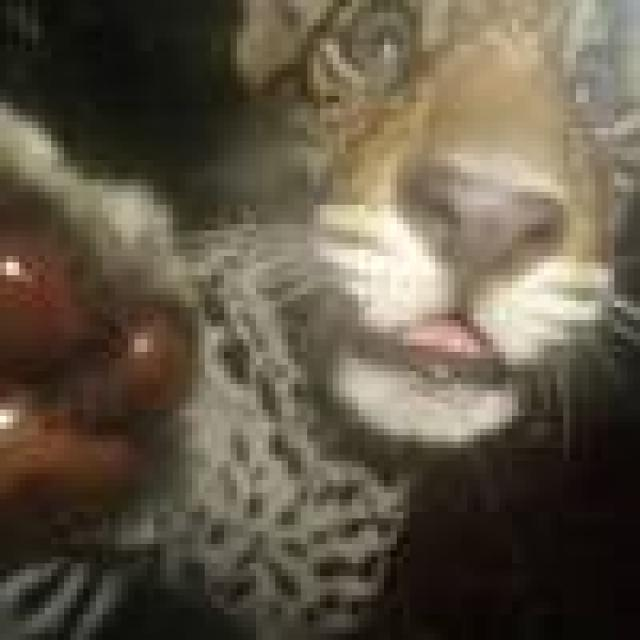Jaguar: (192, 0, 640, 544)
